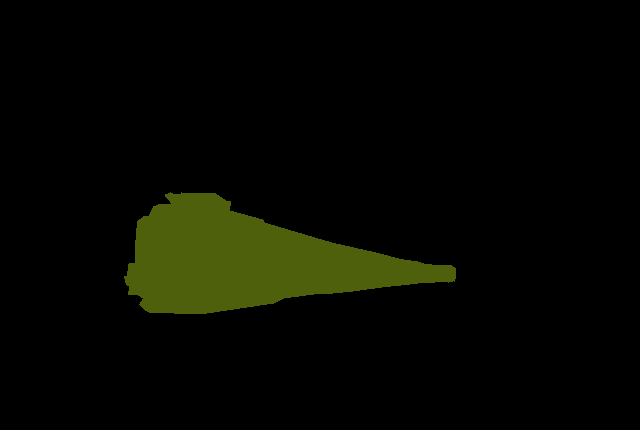Train: (124, 192, 456, 313)
